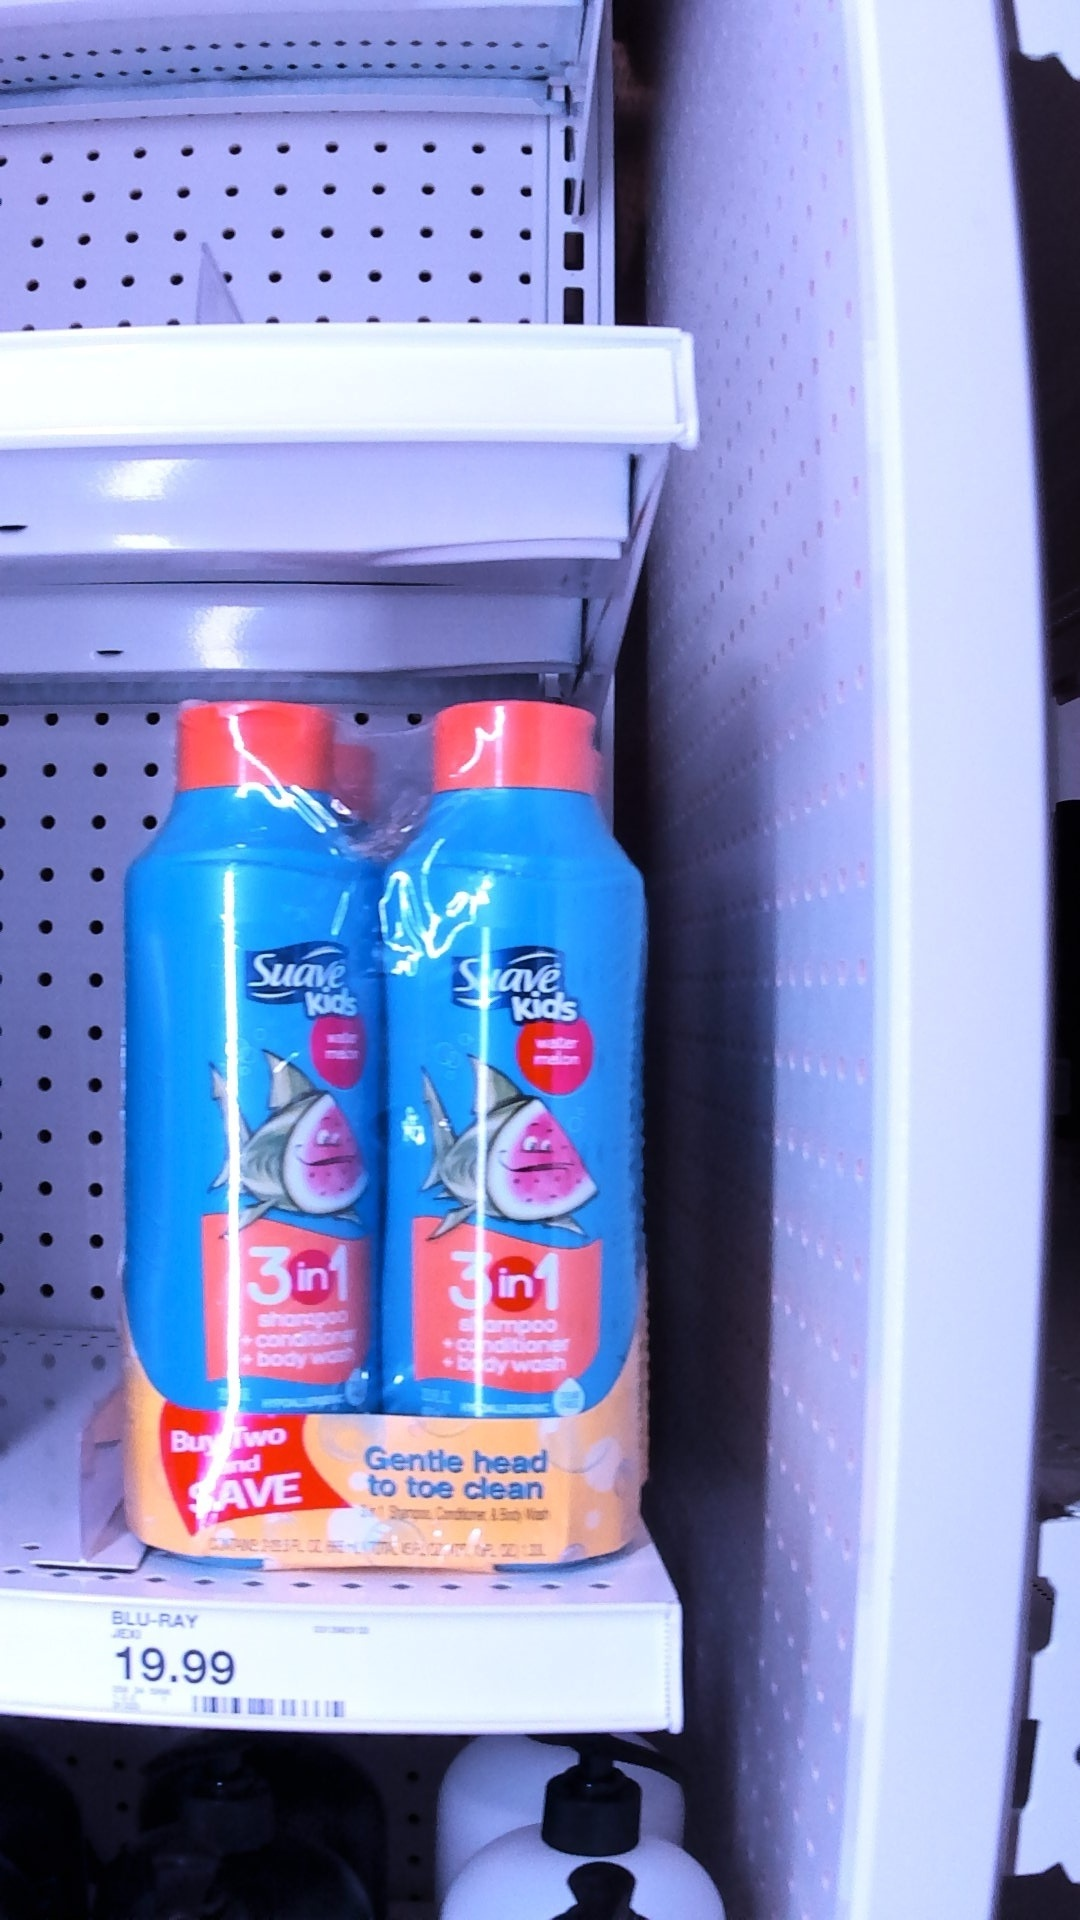ptag: (104, 1602, 382, 1749)
